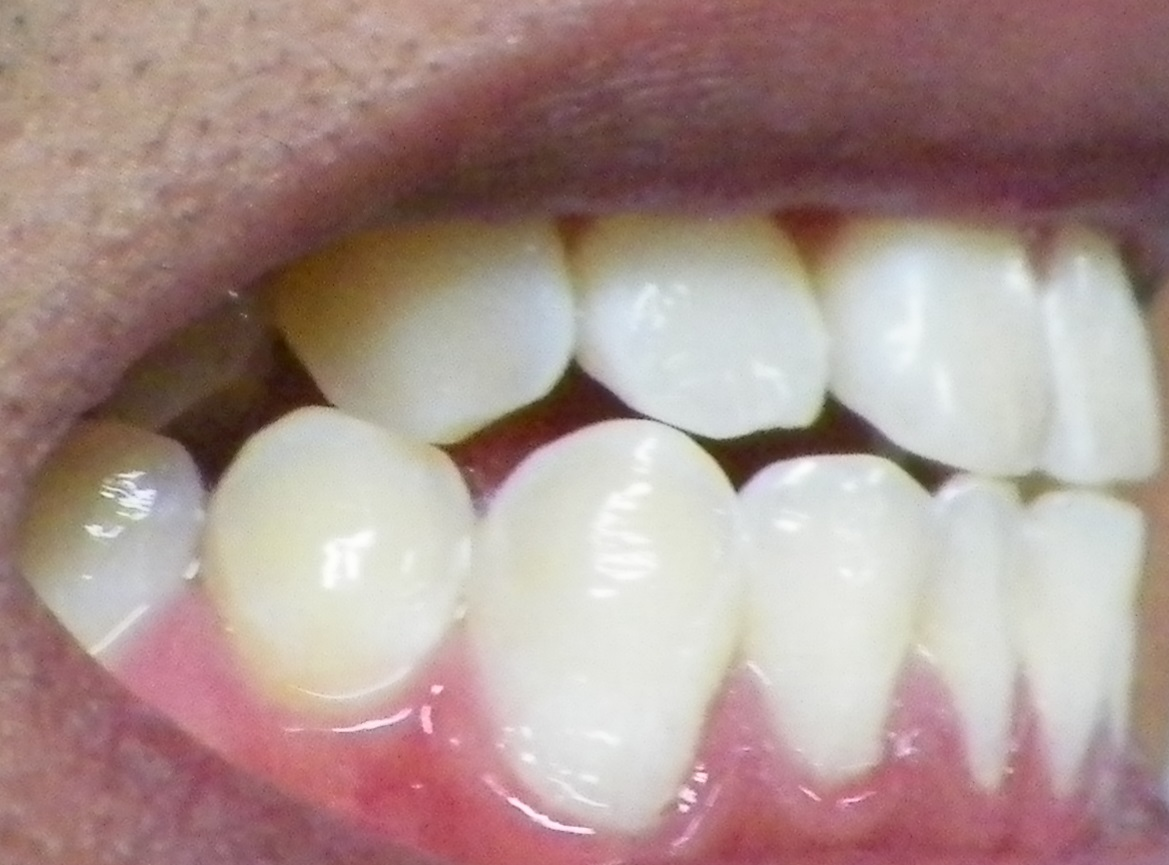boca: (21, 225, 1165, 821)
